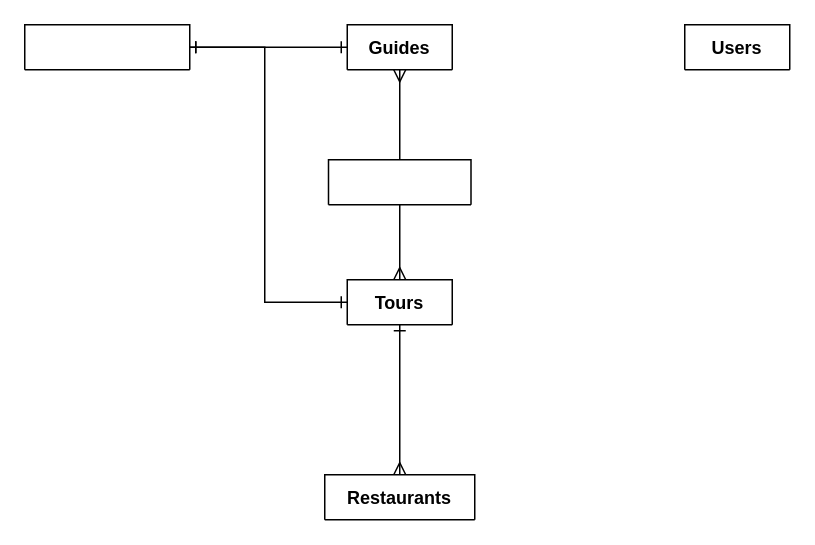
Image size: 815x545. Some labels were removed from this diagram. The shapes that lost their labels are listed below. From the top down, each one's centre as x and y in pixels, then its label:
At point 106,46: "Reservations".
At point 399,181: "Guides- tours".
